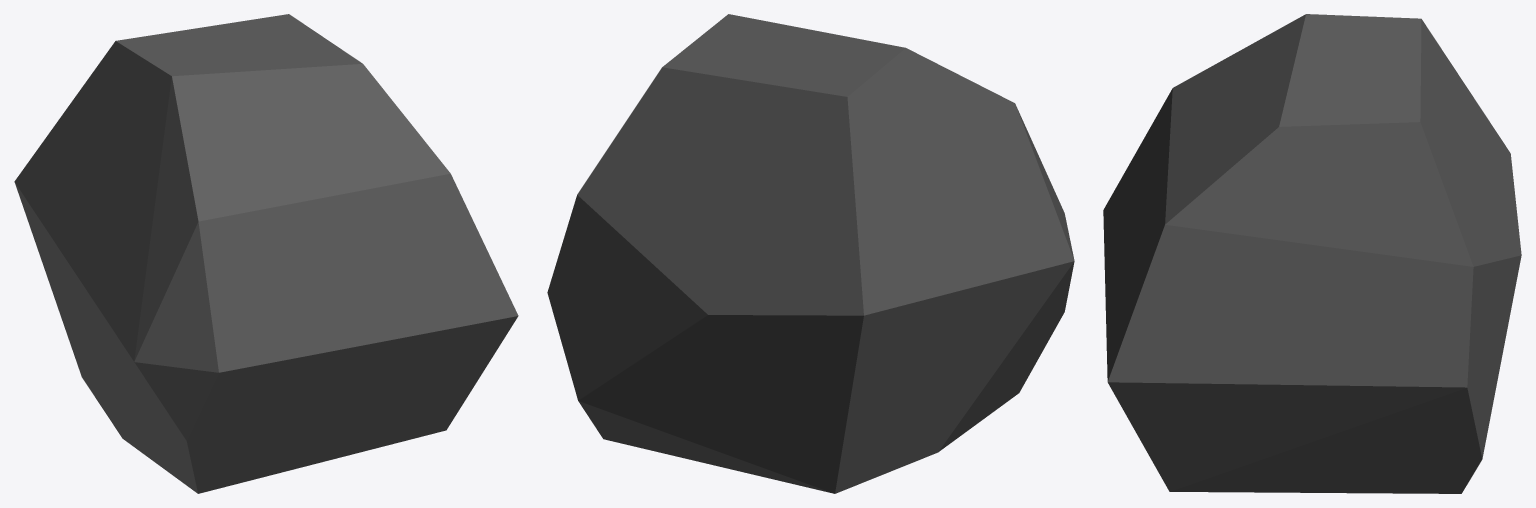
Rendered from stone.obj.
3 views of the same model, side by side, from view 1: azimuth 30°, elevation 25°; view 2: azimuth 150°, elevation 25°; view 3: azimuth 270°, elevation 25° (orthographic). The views are drawn at different scales.
Parts seen in each view (by area): view 1: Cube; view 2: Cube; view 3: Cube.
Part boxes in pixels (x1,y1,x2,y2): Cube: (14,14,518,493); Cube: (547,14,1074,493); Cube: (1103,14,1521,493).
Size of the model in its own units: 3.39 by 3.3 by 3.34.
Materials: 1 (1 with a texture image).
